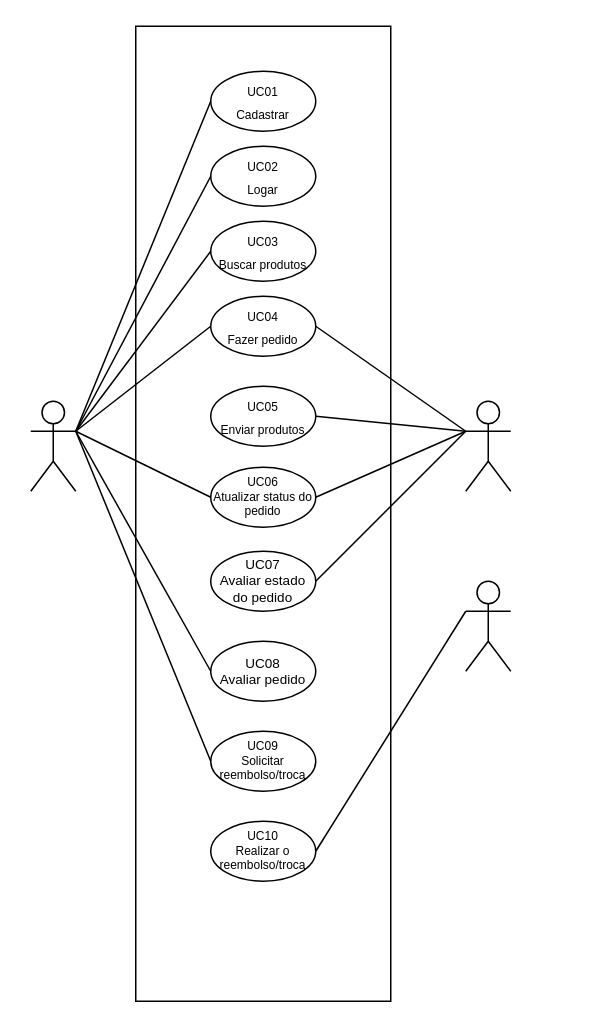
This 593x1028 diagram has some shape labels left out. Each missing label, with the box of its shape:
Cliente: (29, 400, 76, 491)
Equipe de Logistica: (464, 400, 511, 491)
Equipe Fincaceira: (464, 580, 511, 671)
